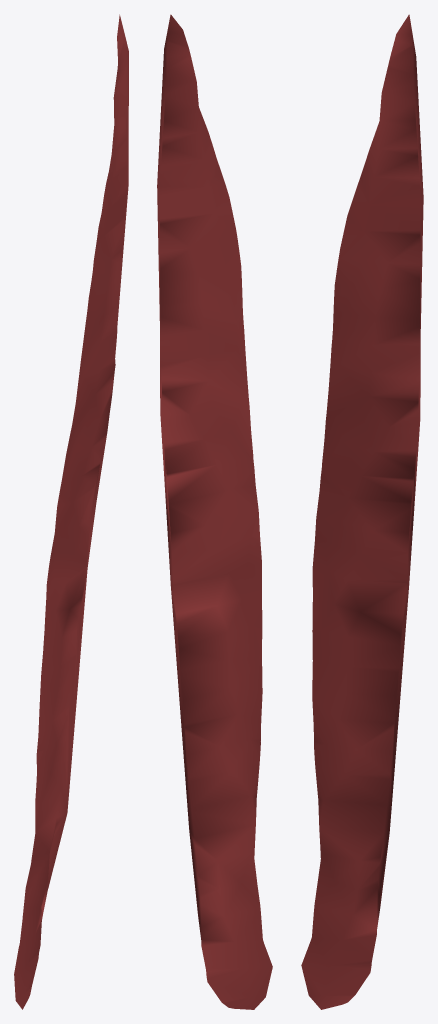
Rendered from extensor-hallucis-longus-ol.glb.
3 renders of one model, left to right at view 1: azimuth 30°, elevation 25°; view 2: azimuth 150°, elevation 25°; view 3: azimuth 330°, elevation 25°, orthographic. The views are drawn at different scales.
Visible parts, largest first — view 1: Extensor hallucis longus.ol; view 2: Extensor hallucis longus.ol; view 3: Extensor hallucis longus.ol.
Boxes of the visible parts, <box> form: Extensor hallucis longus.ol: <box>14,14,128,1009</box>; Extensor hallucis longus.ol: <box>157,14,272,1009</box>; Extensor hallucis longus.ol: <box>301,14,423,1009</box>.
Bounding box in the file's own units: 0.018 × 0.1452 × 0.0126.
